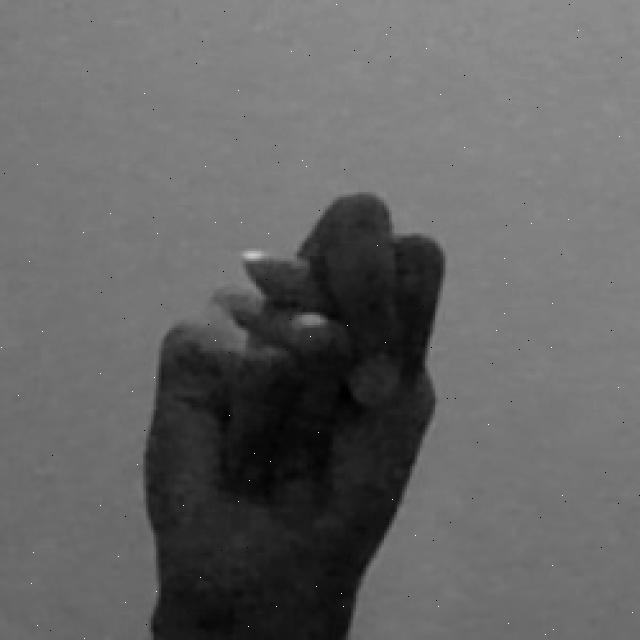N: (140, 184, 452, 640)
